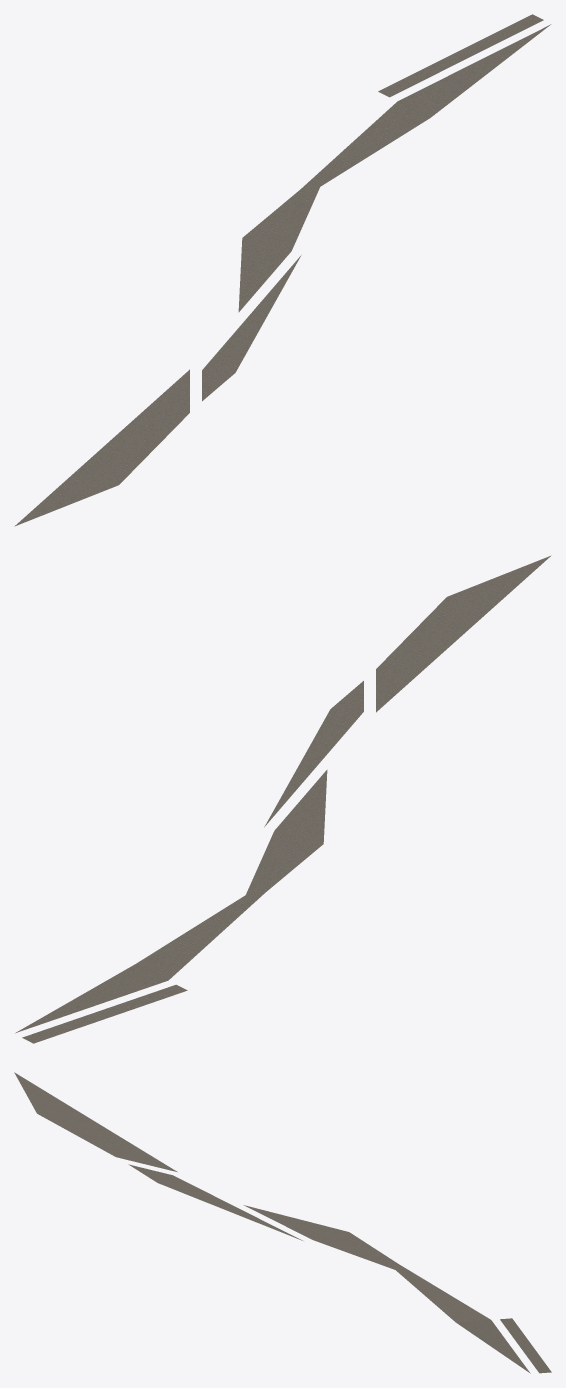
The model's file is kd_connection_town-ground_surface_5_50.glb.
3 views of the same model, one above another, from view 1: azimuth 30°, elevation 25°; view 2: azimuth 210°, elevation 25°; view 3: azimuth 270°, elevation 25° (orthographic). The views are drawn at different scales.
Visible parts, largest first — view 1: kd_connection_town-ground_surface_5_50; view 2: kd_connection_town-ground_surface_5_50; view 3: kd_connection_town-ground_surface_5_50.
Boxes of the visible parts, left/top/right/bottom form: kd_connection_town-ground_surface_5_50: left=14, top=14, right=551, bottom=526; kd_connection_town-ground_surface_5_50: left=15, top=555, right=551, bottom=1043; kd_connection_town-ground_surface_5_50: left=14, top=1072, right=551, bottom=1373.
Size of the model in its own units: 17.25 by 0.2224 by 12.64.
Materials: 1 (1 with a texture image).
